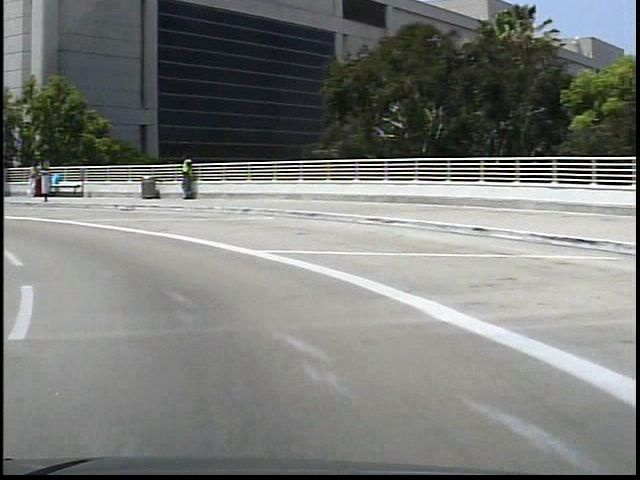person: (172, 151, 193, 204)
